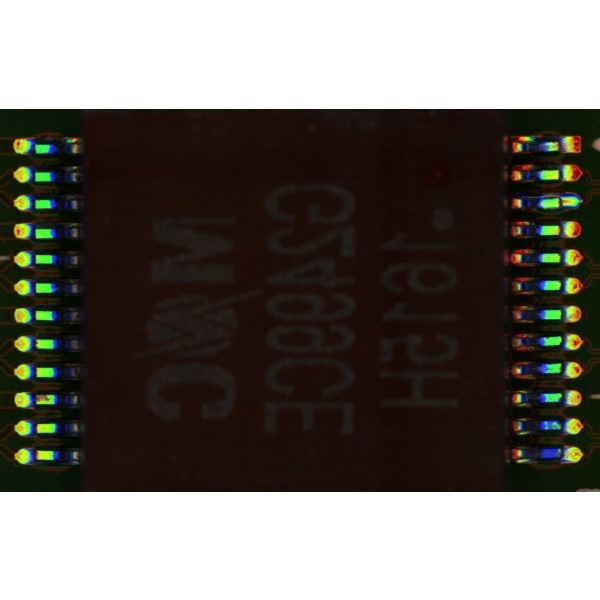Bad_podu: (552, 198, 572, 206)
